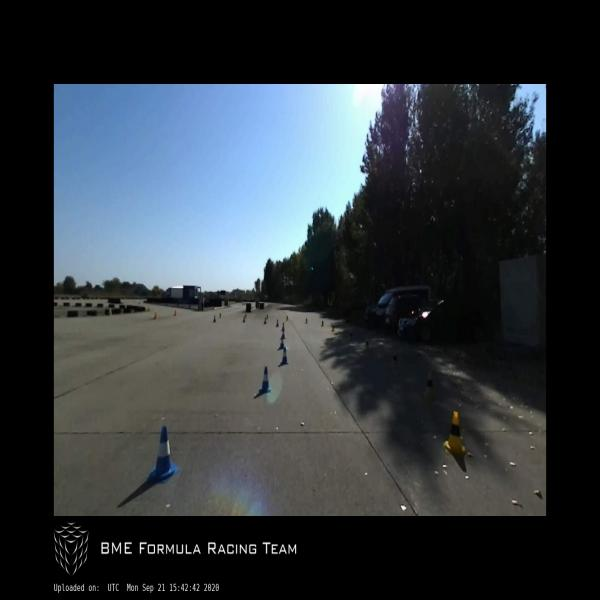blue_cone: (147, 424, 179, 484), (258, 366, 272, 392), (280, 346, 288, 364), (278, 335, 284, 350), (280, 328, 286, 339), (282, 322, 285, 330), (276, 320, 279, 327), (242, 316, 245, 322), (213, 316, 216, 322), (264, 318, 266, 324)
unknown_cone: (154, 312, 157, 320), (174, 309, 176, 316)
yellow_cone: (443, 411, 467, 457), (422, 372, 436, 402), (390, 350, 399, 369), (364, 337, 370, 352), (350, 330, 353, 340), (331, 324, 335, 331), (320, 320, 324, 326), (305, 318, 308, 324), (219, 312, 221, 318), (286, 316, 288, 320), (266, 314, 268, 318), (245, 314, 247, 318)
